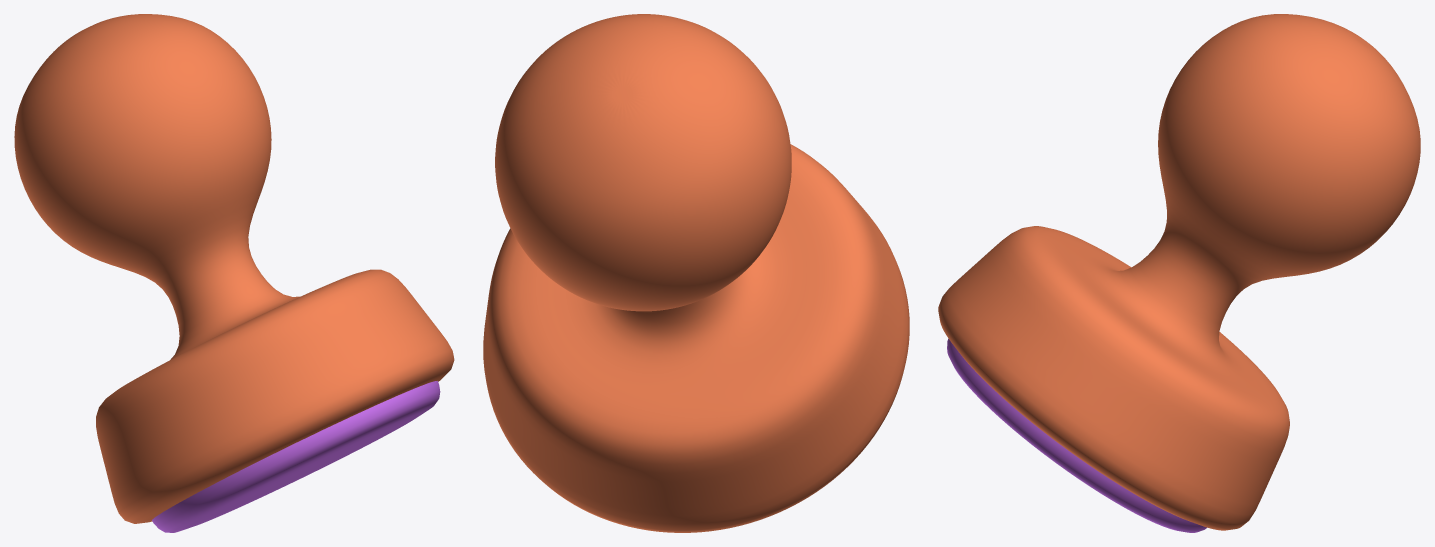
File: 24. Stamp.glb
3 views of the same model, side by side, from view 1: azimuth 30°, elevation 25°; view 2: azimuth 150°, elevation 25°; view 3: azimuth 270°, elevation 25° (orthographic). The views are drawn at different scales.
Parts seen in each view (by area): view 1: Stamp, Cylinder; view 2: Stamp; view 3: Stamp, Cylinder.
Part boxes in pixels (x1,y1,x2,y2): Stamp: (14,14,454,523); Cylinder: (152,381,440,532); Stamp: (483,14,909,532); Stamp: (938,14,1420,530); Cylinder: (947,338,1206,532).
Bounding box in the file's own units: 0.4538 × 0.6278 × 0.5832.
